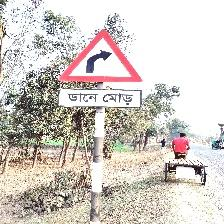Right-turn: (57, 29, 145, 109)
